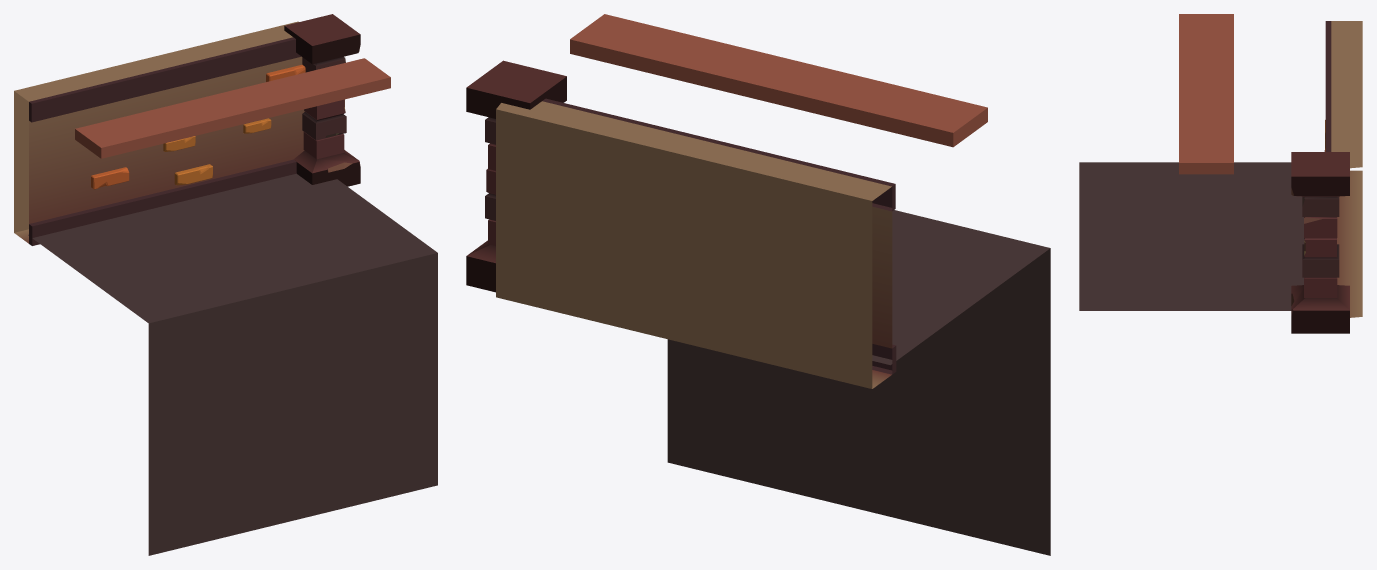
File: Swinging_Axe_Env.fbx
3 renders of one model, left to right at view 1: azimuth 30°, elevation 25°; view 2: azimuth 150°, elevation 25°; view 3: azimuth 270°, elevation 25°, orthographic. The views are drawn at different scales.
Visible parts, largest first — view 1: Run_Swinging_Platform; view 2: Run_Swinging_Platform; view 3: Run_Swinging_Platform.
Boxes of the visible parts, box(x1,y1,x2,y2) form: Run_Swinging_Platform: box(14, 14, 437, 555); Run_Swinging_Platform: box(466, 14, 1050, 555); Run_Swinging_Platform: box(1079, 14, 1362, 333).
Size of the model in its own units: 7.57 by 8.63 by 5.64.
